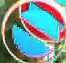No waiting: (2, 1, 62, 62)
